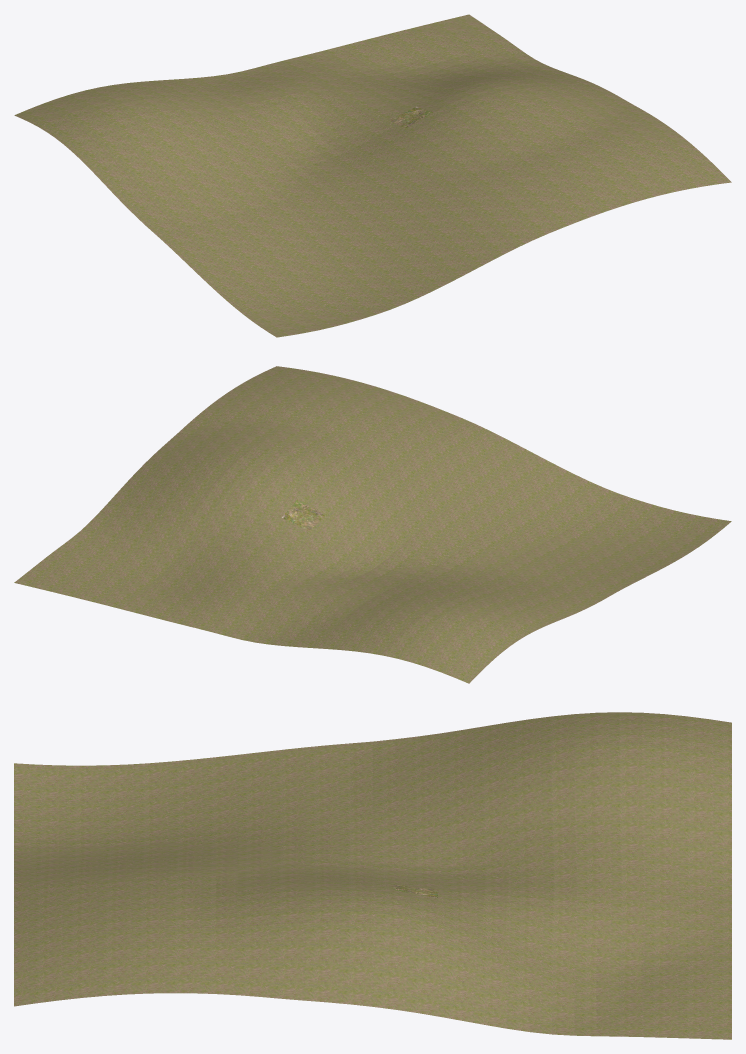
The model's file is vorschau.gltf.
3 renders of one model, top to bottom at view 1: azimuth 30°, elevation 25°; view 2: azimuth 150°, elevation 25°; view 3: azimuth 270°, elevation 25°, orthographic. The views are drawn at different scales.
Visible parts, largest first — view 1: Plane; view 2: Plane; view 3: Plane.
Boxes of the visible parts, x1,y1,x2,y2 form: Plane: (14, 14, 731, 337); Plane: (14, 366, 731, 683); Plane: (14, 712, 731, 1039).
Size of the model in its own units: 85.81 by 12.53 by 85.83.
Materials: 2 (1 with a texture image).
